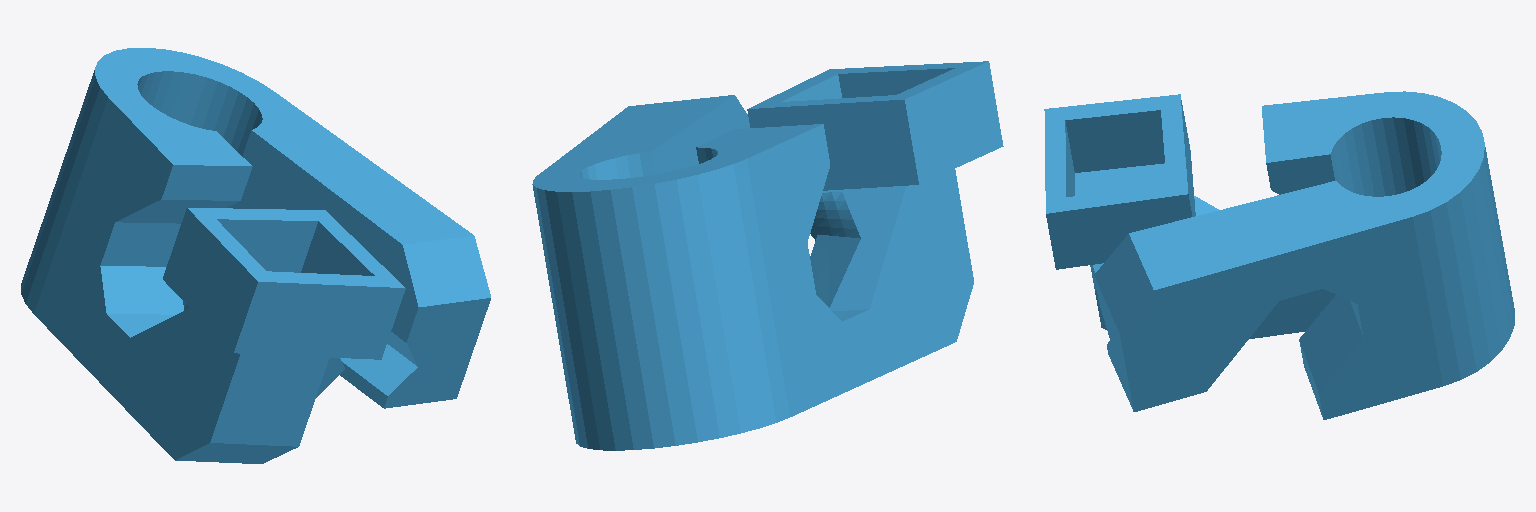
The robot description file, URDF, robot "bar_clamp":
<robot name="bar_clamp">
  <link name="world" />
  <link name="bar_clamp">
    <visual>
       <geometry>
	  <mesh filename="package://panda_simulation/objects/bar_clamp.dae"/>
	</geometry>
    </visual>
    <collision>
       <geometry>
	  <mesh filename="package://panda_simulation/objects/bar_clamp.dae"/>
	</geometry>
    </collision>
	<inertial>
		<mass value="0.05"/>
		<inertia ixx="0.1" iyy="0.1" izz="0.1" ixy="0.0" ixz="0.0" iyz="0.0"/>
	</inertial>
  </link>

  <gazebo reference="bar_clamp">
      <dampingFactor>0.005</dampingFactor>
      <kp>1000000</kp>
      <kd>1.0</kd>
      <mu1>100.0</mu1>
      <mu2>100.0</mu2>
      <minDepth>0.001</minDepth>
  </gazebo>
  <joint name="joint1" type="floating">
    <parent link="world"/>
    <child link="bar_clamp"/>
  </joint>
</robot>

--- Render facts (derived) ---
Views: 3 orthographic renders of the robot side by side, from view 1: azimuth 30°, elevation 25°; view 2: azimuth 150°, elevation 25°; view 3: azimuth 270°, elevation 25°.
Model bar_clamp with 2 links and 1 joints (1 floating), rooted at world, posed every joint at zero.
Visible links, largest first — view 1: bar_clamp; view 2: bar_clamp; view 3: bar_clamp.
Link boxes in pixels (<box>): bar_clamp: <box>21,48,490,463</box>; bar_clamp: <box>532,61,1003,450</box>; bar_clamp: <box>1044,91,1514,419</box>.
Size in the robot's own frame: 0.1118 by 0.1659 by 0.1029 metres.
1 mesh visuals loaded from 1 distinct referenced files (1 Collada DAE).